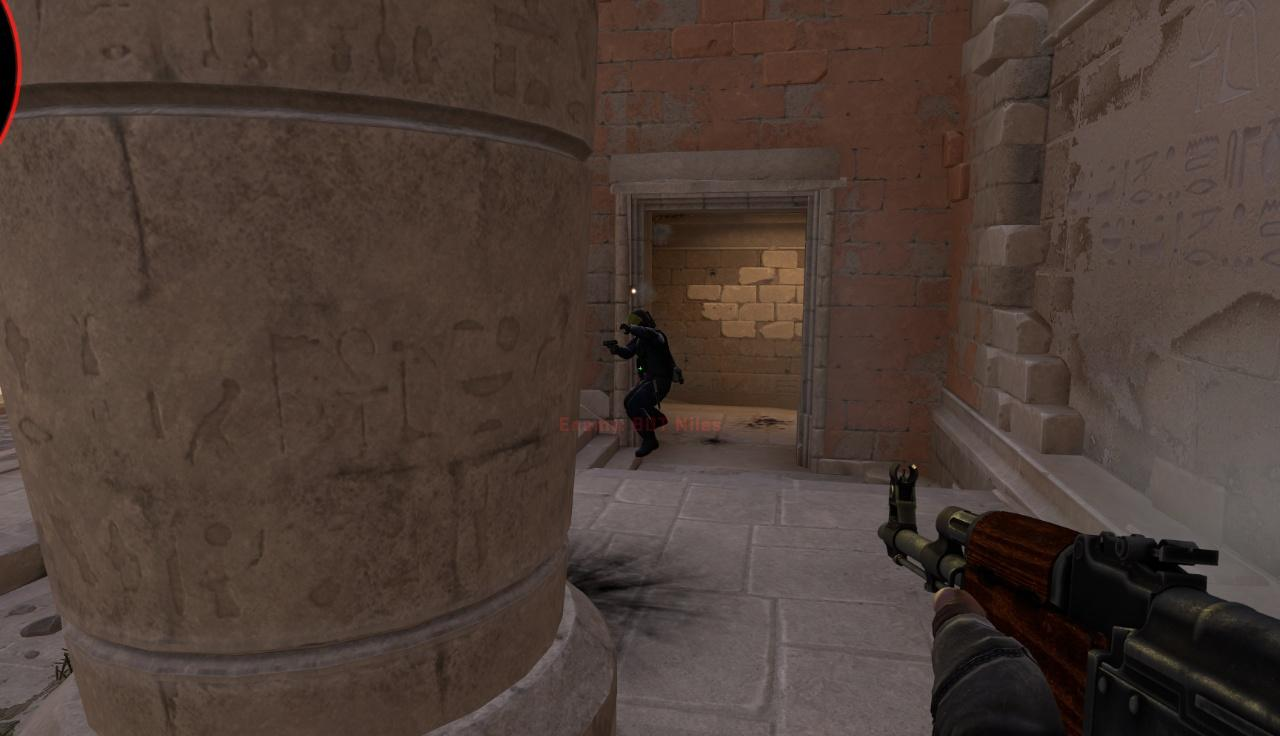ct: (625, 311, 676, 463)
cthead: (626, 310, 651, 334)
rifle: (882, 462, 1280, 732)
